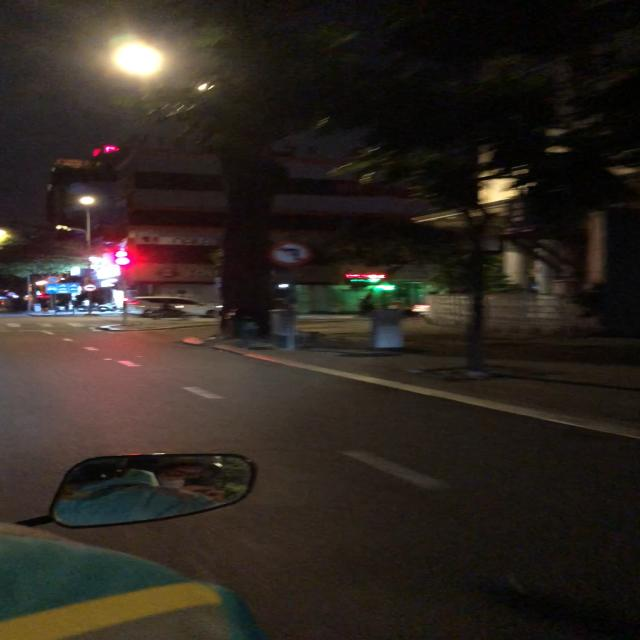Bien bao cam re trai: (261, 239, 315, 267)
Bien bao cam xe so-mi ro-mooc: (82, 282, 99, 293)
